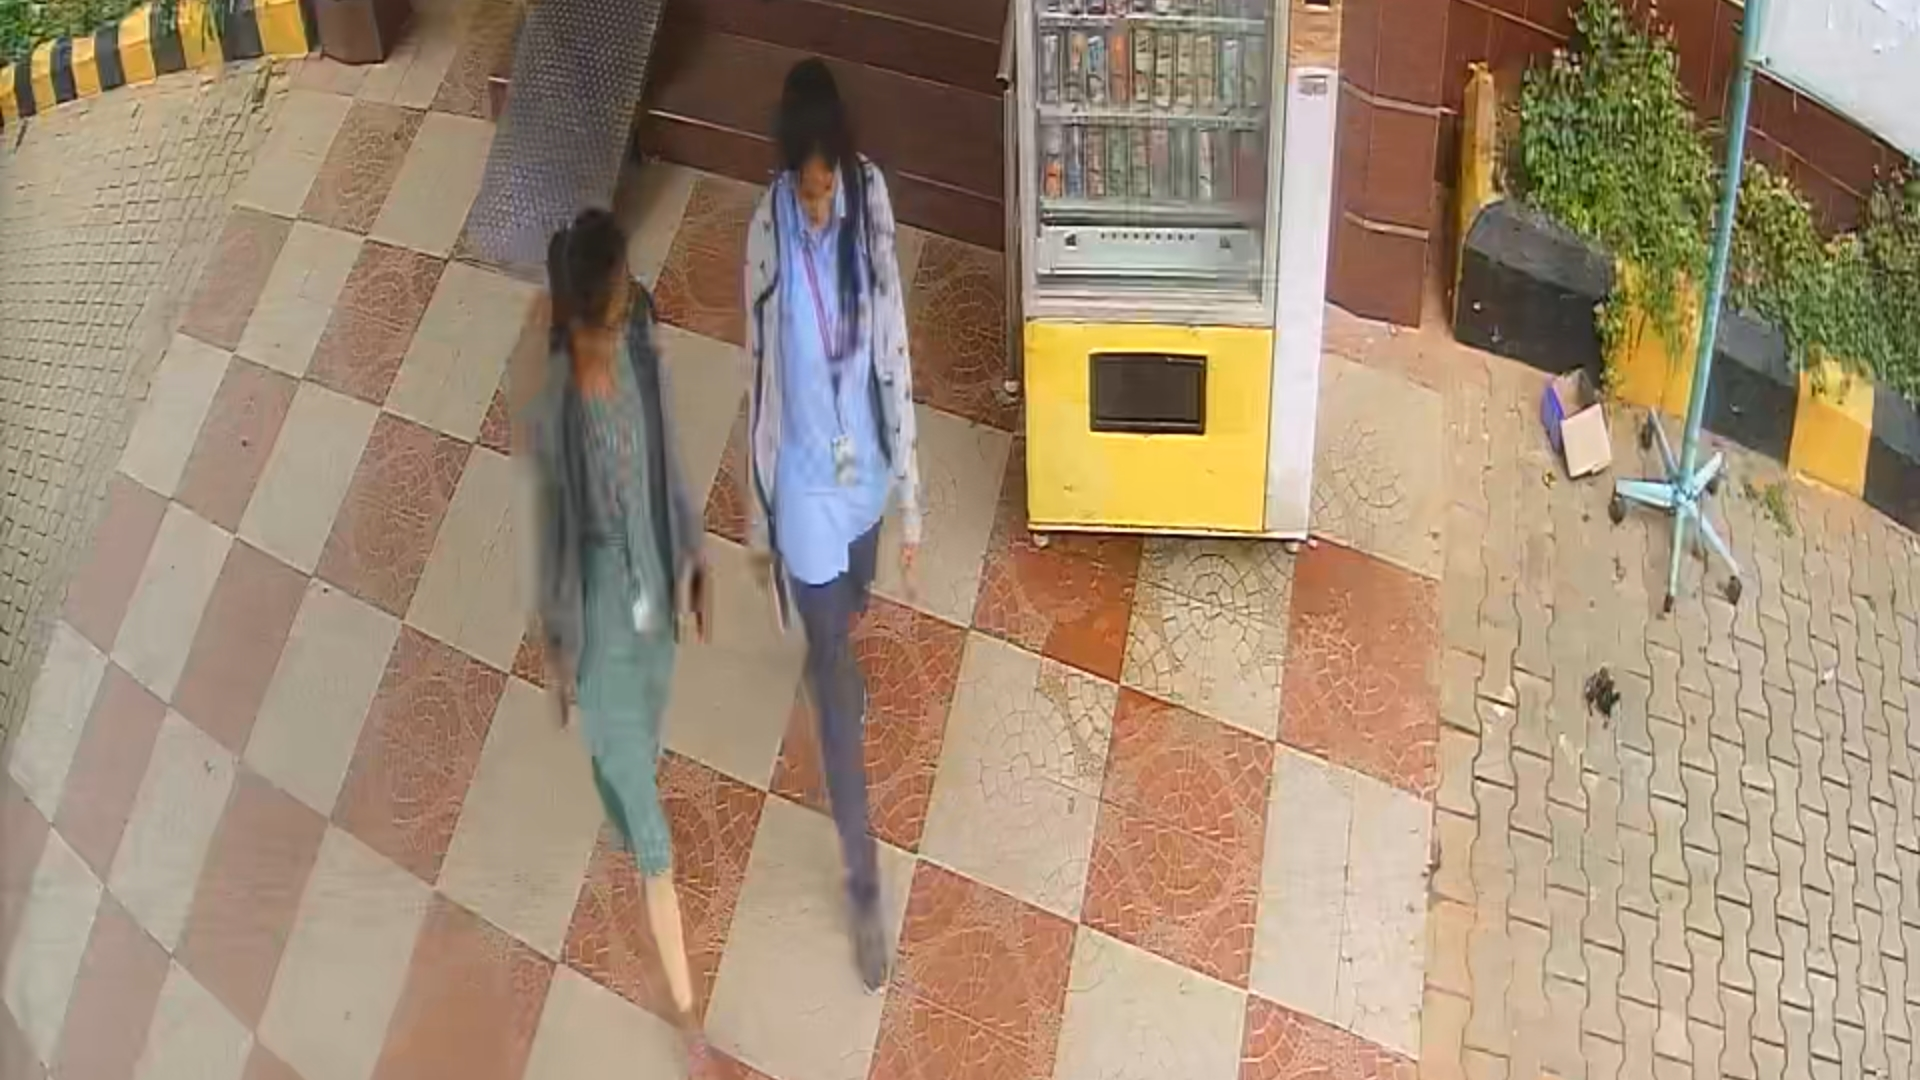intruder: (529, 200, 737, 1033)
not intruder: (736, 45, 964, 1005)
